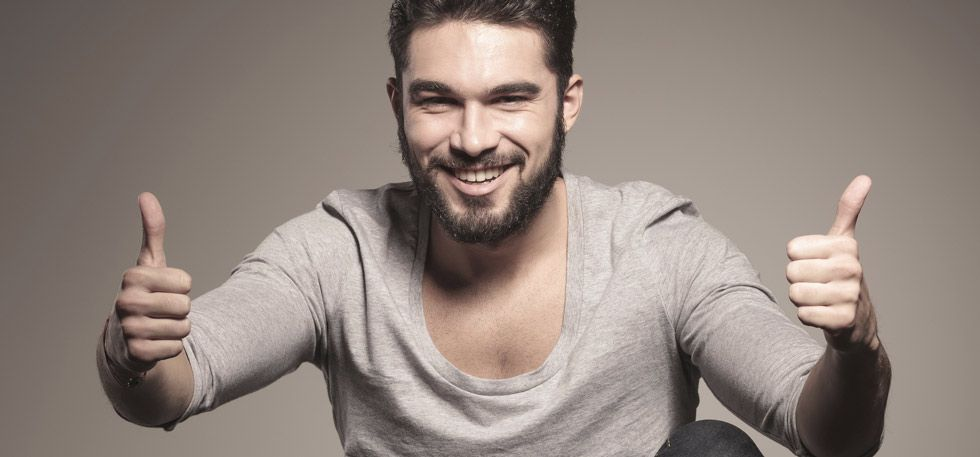human: (92, 1, 901, 457)
